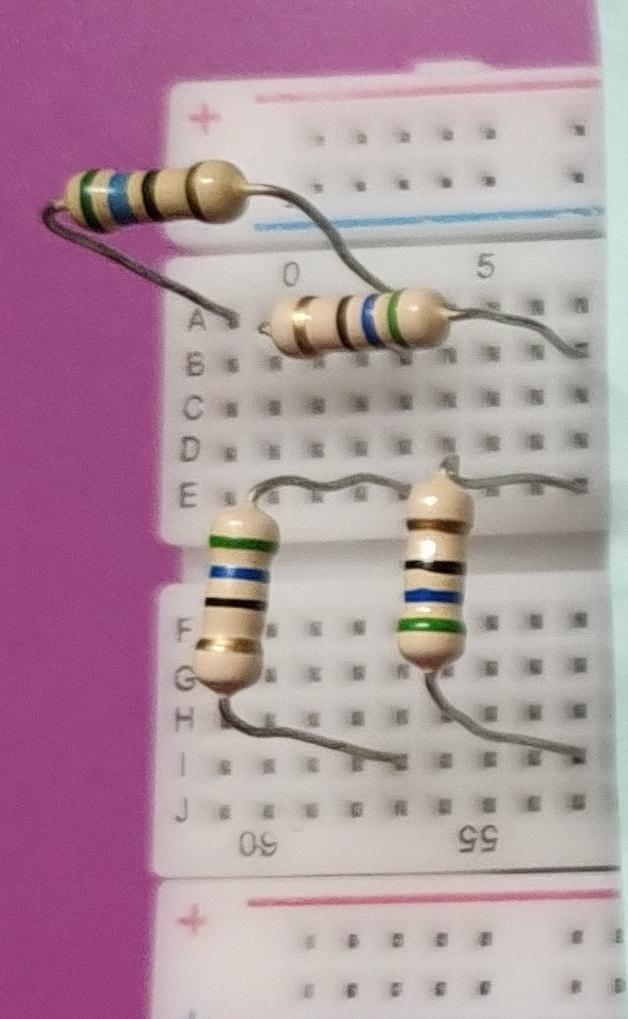resistor: (181, 491, 282, 710), (51, 153, 273, 252), (383, 461, 481, 679), (259, 281, 471, 369)
